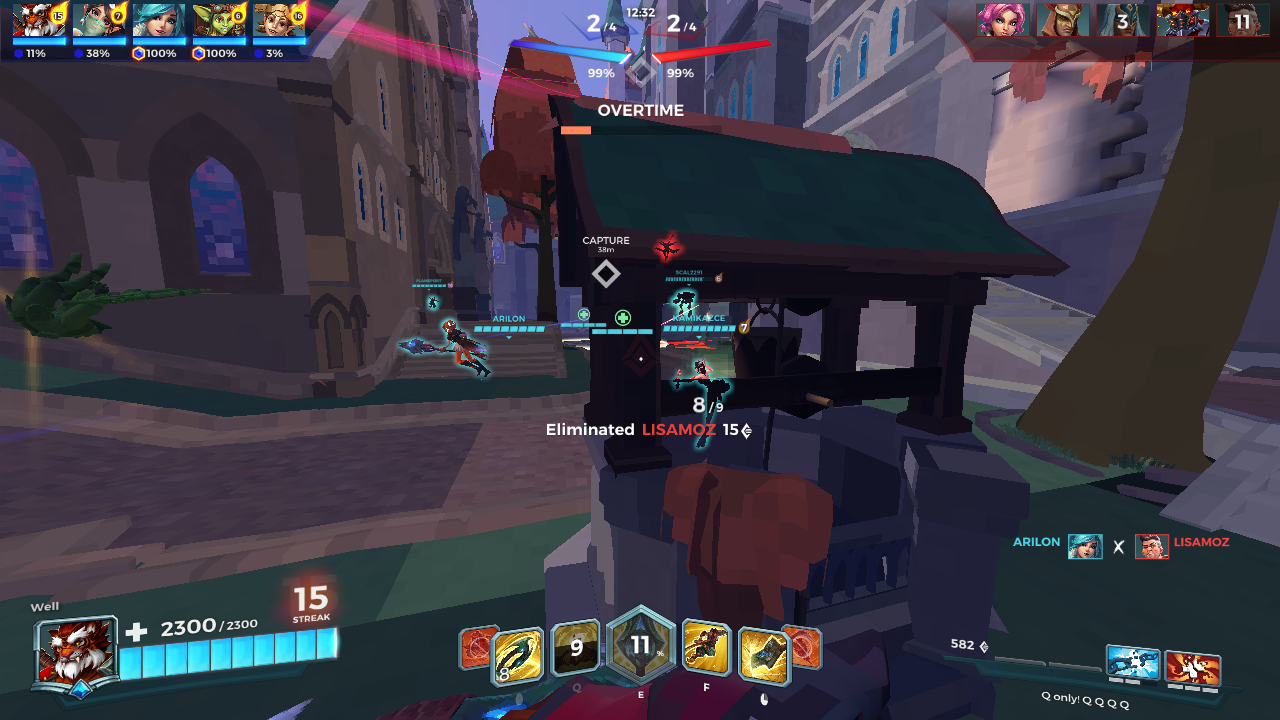model: (647, 232, 683, 264)
